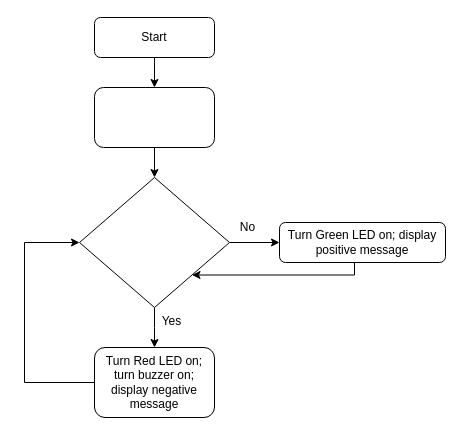
Image size: 463x435. Some labels were removed from this diagram. The centre of each missing label's shape, as x and y in pixels:
"Define variables, declare inputs and outputs; read inputs" belongs at point (154, 117).
"Is temperature >= 35 and/or humidity < 20?" belongs at point (154, 242).
